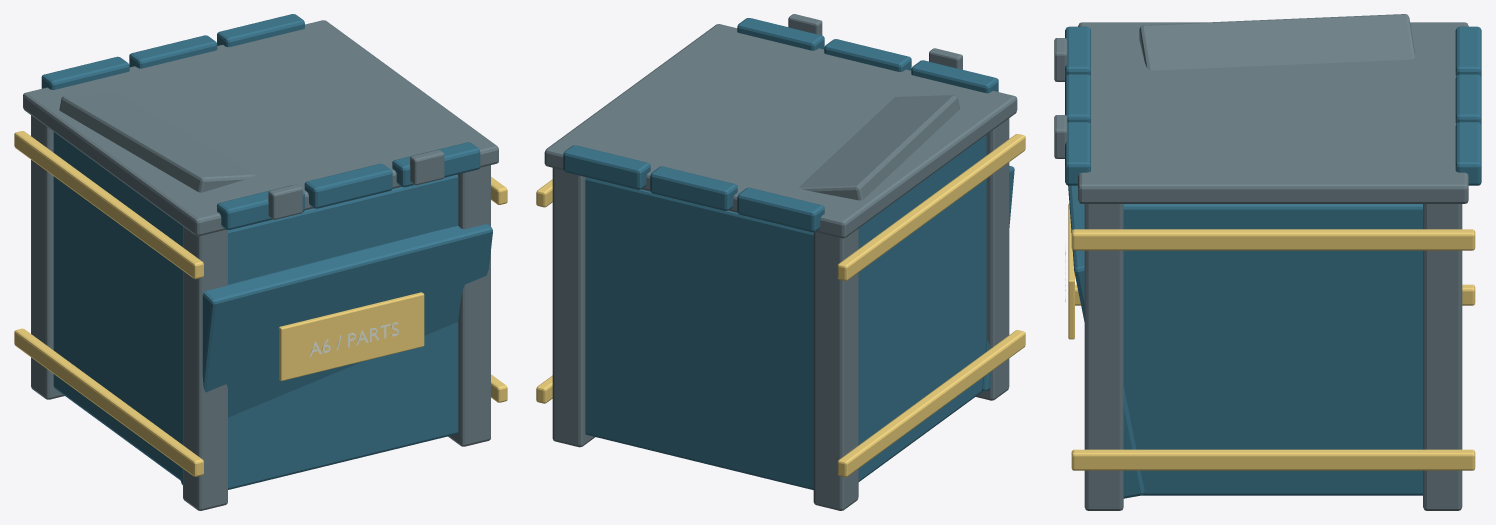
The model's file is cargo_crate_d2.glb.
3 renders of one model, left to right at view 1: azimuth 30°, elevation 25°; view 2: azimuth 150°, elevation 25°; view 3: azimuth 270°, elevation 25°, orthographic. The views are drawn at different scales.
Parts seen in each view (by area): view 1: Crate shell.008, Solid crate lid.008, Compressed front panel.002, Corner post.032, Identification placard.008, Buckled lid.002, Corner post.034, Corner post.033, Vertical tie band.032, Vertical tie band.033, Lid slat.049, Lid slat.048 (+6 smaller); view 2: Crate shell.008, Solid crate lid.008, Corner post.033, Corner post.035, Buckled lid.002, Corner post.032, Vertical tie band.032, Vertical tie band.033, Lid slat.052, Lid slat.053, Lid slat.051, Lid slat.048 (+2 smaller); view 3: Crate shell.008, Solid crate lid.008, Buckled lid.002, Corner post.034, Corner post.035, Vertical tie band.035, Vertical tie band.034, Compressed front panel.002, Lid slat.053, Lid slat.050, Lid slat.051, Lid slat.052 (+5 smaller).
Boxes of the visible parts, left/top/right/bottom form: Crate shell.008: left=53, top=132, right=458, bottom=489; Solid crate lid.008: left=23, top=20, right=498, bottom=236; Compressed front panel.002: left=181, top=224, right=492, bottom=484; Corner post.032: left=183, top=226, right=227, bottom=510; Identification placard.008: left=279, top=292, right=424, bottom=380; Buckled lid.002: left=59, top=93, right=255, bottom=192; Corner post.034: left=448, top=165, right=490, bottom=446; Corner post.033: left=31, top=115, right=64, bottom=399; Vertical tie band.032: left=14, top=328, right=203, bottom=476; Vertical tie band.033: left=14, top=131, right=203, bottom=279; Lid slat.049: left=304, top=163, right=392, bottom=208; Lid slat.048: left=217, top=185, right=304, bottom=230; Crate shell.008: left=585, top=135, right=986, bottom=489; Solid crate lid.008: left=544, top=24, right=1017, bottom=238; Corner post.033: left=813, top=228, right=858, bottom=510; Corner post.035: left=552, top=168, right=595, bottom=447; Buckled lid.002: left=799, top=95, right=959, bottom=200; Corner post.032: left=976, top=118, right=1009, bottom=400; Vertical tie band.032: left=837, top=330, right=1025, bottom=477; Vertical tie band.033: left=837, top=134, right=1025, bottom=280; Lid slat.052: left=650, top=166, right=737, bottom=210; Lid slat.053: left=563, top=145, right=650, bottom=189; Lid slat.051: left=737, top=187, right=824, bottom=232; Lid slat.048: left=911, top=60, right=998, bottom=93; Crate shell.008: left=1123, top=204, right=1422, bottom=495; Solid crate lid.008: left=1078, top=22, right=1468, bottom=203; Buckled lid.002: left=1139, top=14, right=1414, bottom=70; Corner post.034: left=1084, top=204, right=1123, bottom=510; Corner post.035: left=1423, top=204, right=1462, bottom=510; Vertical tie band.035: left=1071, top=229, right=1475, bottom=250; Vertical tie band.034: left=1071, top=449, right=1475, bottom=470; Compressed front panel.002: left=1068, top=185, right=1144, bottom=498; Lid slat.053: left=1455, top=122, right=1481, bottom=185; Lid slat.050: left=1065, top=122, right=1090, bottom=185; Lid slat.051: left=1455, top=26, right=1481, bottom=77; Lid slat.052: left=1455, top=74, right=1481, bottom=124.
Size of the model in its own units: 1.86 by 1.78 by 1.97.
